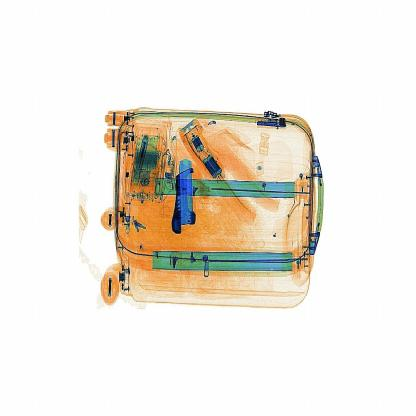pliers: (170, 154, 199, 238)
